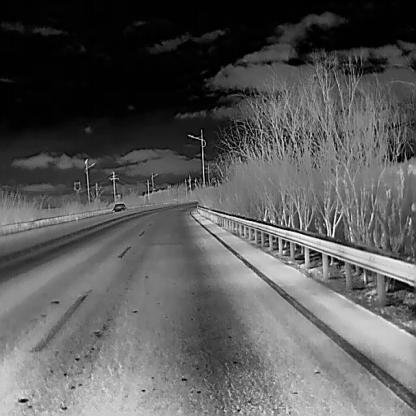car: (112, 202, 125, 212)
